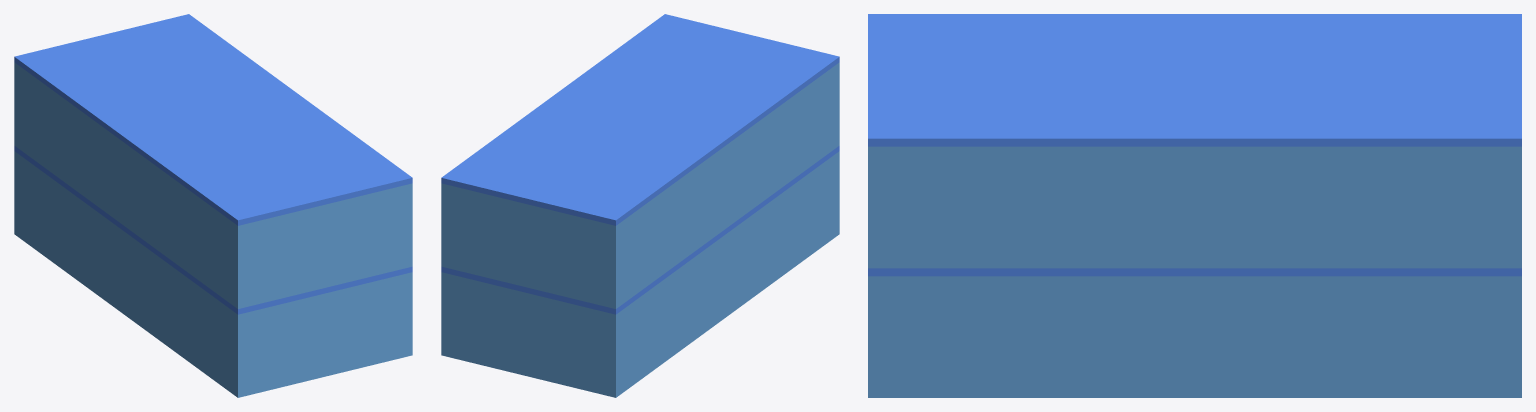
Rendered from building_1x2_8_f.glb.
3 renders of one model, left to right at view 1: azimuth 30°, elevation 25°; view 2: azimuth 150°, elevation 25°; view 3: azimuth 270°, elevation 25°, orthographic. The views are drawn at different scales.
Visible parts, largest first — view 1: Cube.001; view 2: Cube.001; view 3: Cube.001.
Part boxes in pixels (x1,y1,x2,y2): Cube.001: (14,14,412,397); Cube.001: (441,14,839,397); Cube.001: (868,14,1521,397).
Bounding box in the file's own units: 1.65 × 1.6 × 3.65.
